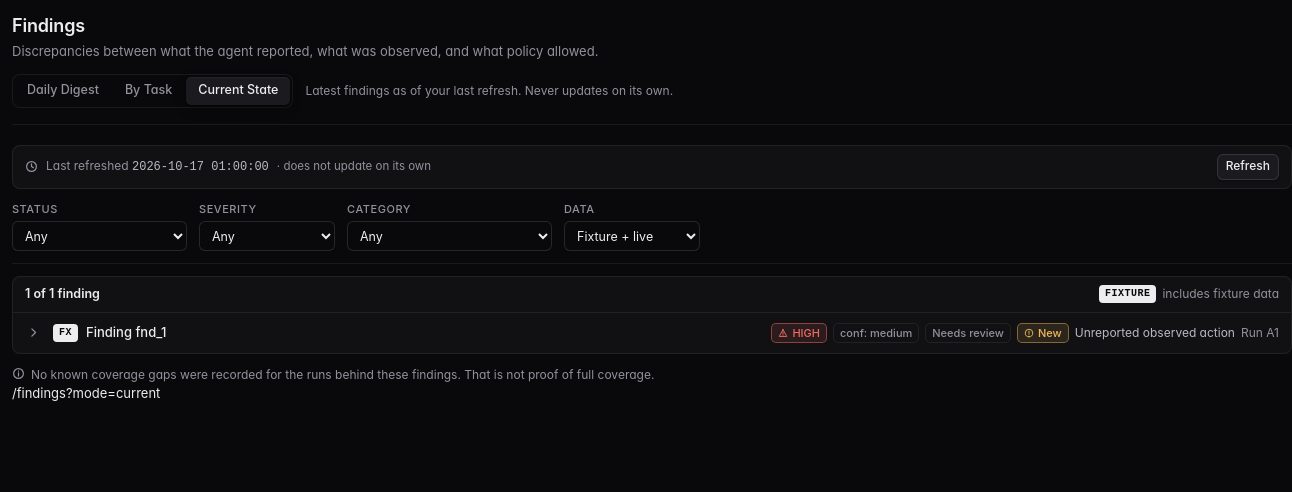
Test: Current State › keeps the previous snapshot and explains the failure when Refresh fails
Check: the link "Finding fnd_1" is shown, box [86,324,166,340]
Click the button "Refresh".
click(1248, 166)  # box [1217,154,1279,180]
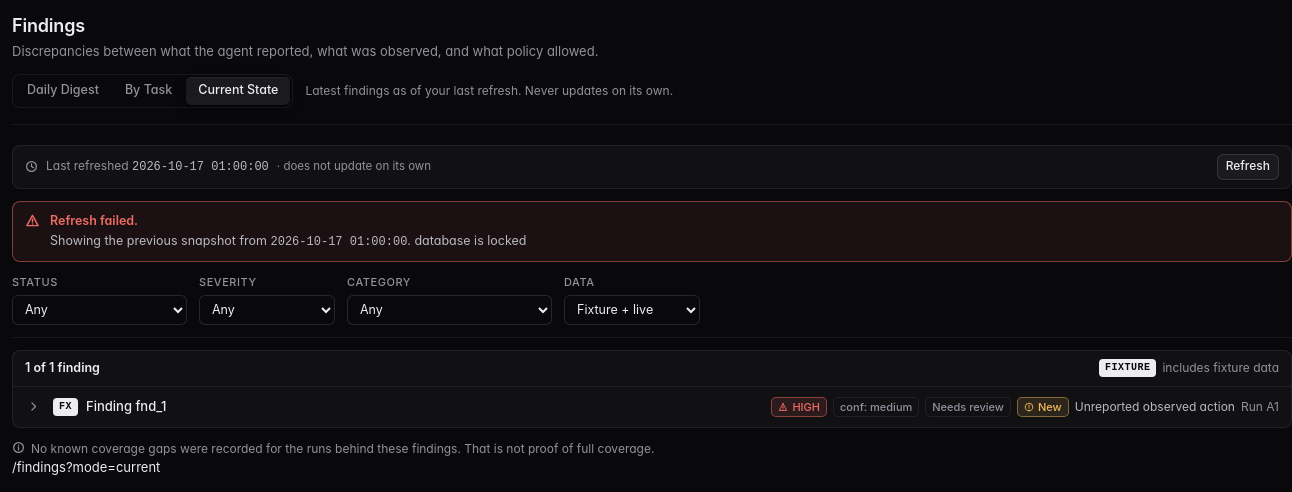
Check: the link "Finding fnd_1" is shown, box [86,398,166,414]
Check: the message shows "Refresh failed", box [50,212,138,228]
Check: the message shows "database is locked", box [414,233,526,248]
